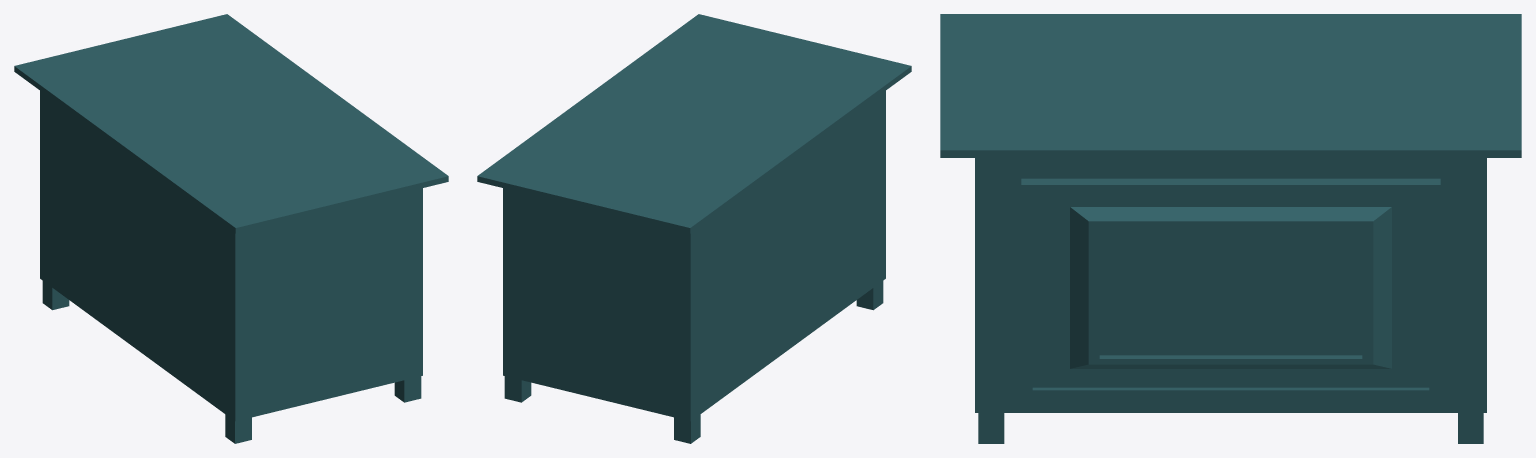
File: BlueChest.fbx
The picture shows the model from 3 angles, left to right: view 1: azimuth 30°, elevation 25°; view 2: azimuth 150°, elevation 25°; view 3: azimuth 270°, elevation 25°; orthographic projection. The views are drawn at different scales.
Parts seen in each view (by area): view 1: Bluechest; view 2: Bluechest; view 3: Bluechest.
Boxes of the visible parts, <box> form: Bluechest: <box>14,14,448,443</box>; Bluechest: <box>477,14,911,443</box>; Bluechest: <box>940,14,1521,443</box>.
Size of the model in its own units: 228 by 234 by 409.
